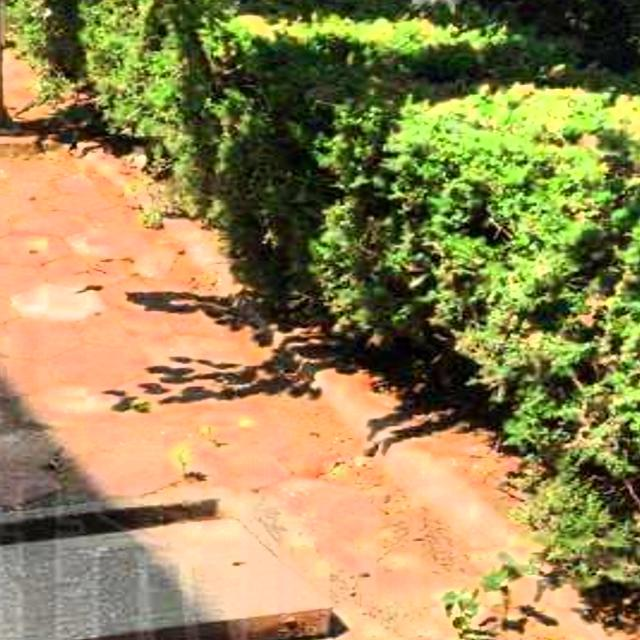uncovered: (0, 482, 475, 640)
